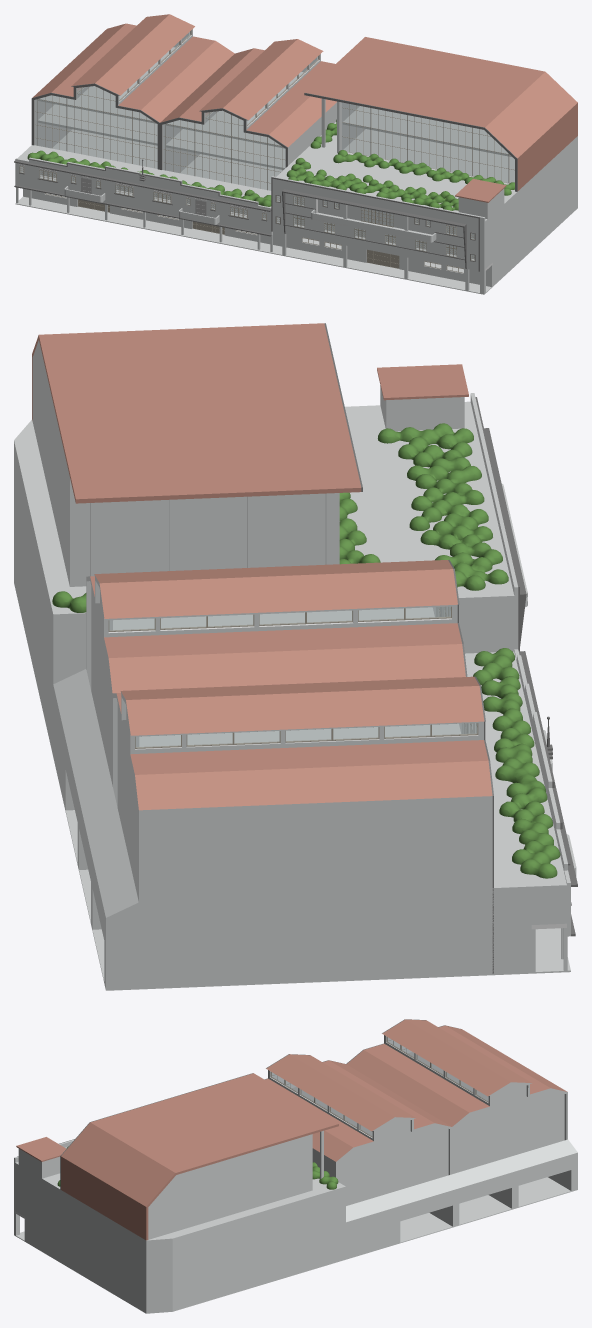
The picture shows the model from 3 angles, top to bottom: view 1: azimuth 30°, elevation 25°; view 2: azimuth 150°, elevation 25°; view 3: azimuth 270°, elevation 25°; orthographic projection. The views are drawn at different scales.
Visible parts, largest first — view 1: Object.522, Object.333, Object.395, Object.335, Object.334, Mball.148, Object.519, Object.307, Object.520, Object.394, Object.531, Object.607 (+42 smaller); view 2: Object.613, Object.522, Mball.148, Object.392, Object.333, Object.521, Object.608, Object.532, Object.612, Object.536, Object.611, Object.535 (+19 smaller); view 3: Object.333, Object.522, Object.521, Object.393, Object.390, Object.391, Object.519, Object.607, Object.531, Object.603, Object.604, Object.507 (+12 smaller).
Part boxes in pixels (box(x1,y1,x2,y2)): Object.522: box(305, 37, 577, 190); Object.333: box(292, 122, 577, 274); Object.395: box(342, 102, 514, 182); Object.335: box(35, 86, 157, 168); Object.334: box(163, 111, 285, 190); Mball.148: box(27, 119, 514, 210); Object.519: box(15, 193, 577, 294); Object.307: box(15, 163, 272, 234); Object.520: box(272, 210, 485, 272); Object.394: box(342, 106, 511, 156); Object.531: box(223, 39, 323, 120); Object.607: box(95, 14, 194, 95); Object.613: box(139, 796, 492, 987); Object.522: box(32, 323, 361, 503); Mball.148: box(52, 423, 560, 878); Object.392: box(69, 475, 339, 586); Object.333: box(14, 405, 415, 754); Object.521: box(53, 669, 138, 989); Object.608: box(126, 686, 484, 735); Object.532: box(99, 569, 457, 618); Object.612: box(135, 760, 492, 810); Object.536: box(108, 644, 465, 693); Object.611: box(130, 740, 488, 774); Object.535: box(104, 623, 461, 657); Object.333: box(42, 1173, 345, 1312); Object.522: box(61, 1073, 338, 1240); Object.521: box(346, 1139, 577, 1258); Object.393: box(148, 1134, 310, 1239); Object.390: box(454, 1084, 564, 1173); Object.391: box(338, 1119, 448, 1205); Object.519: box(14, 1177, 577, 1313); Object.607: box(382, 1019, 510, 1096); Object.531: box(266, 1054, 394, 1131); Object.603: box(346, 1050, 468, 1126); Object.604: box(364, 1043, 489, 1112); Object.507: box(15, 1165, 41, 1250).
Bounding box in the file's own units: 1.46 × 0.4324 × 1.68.
